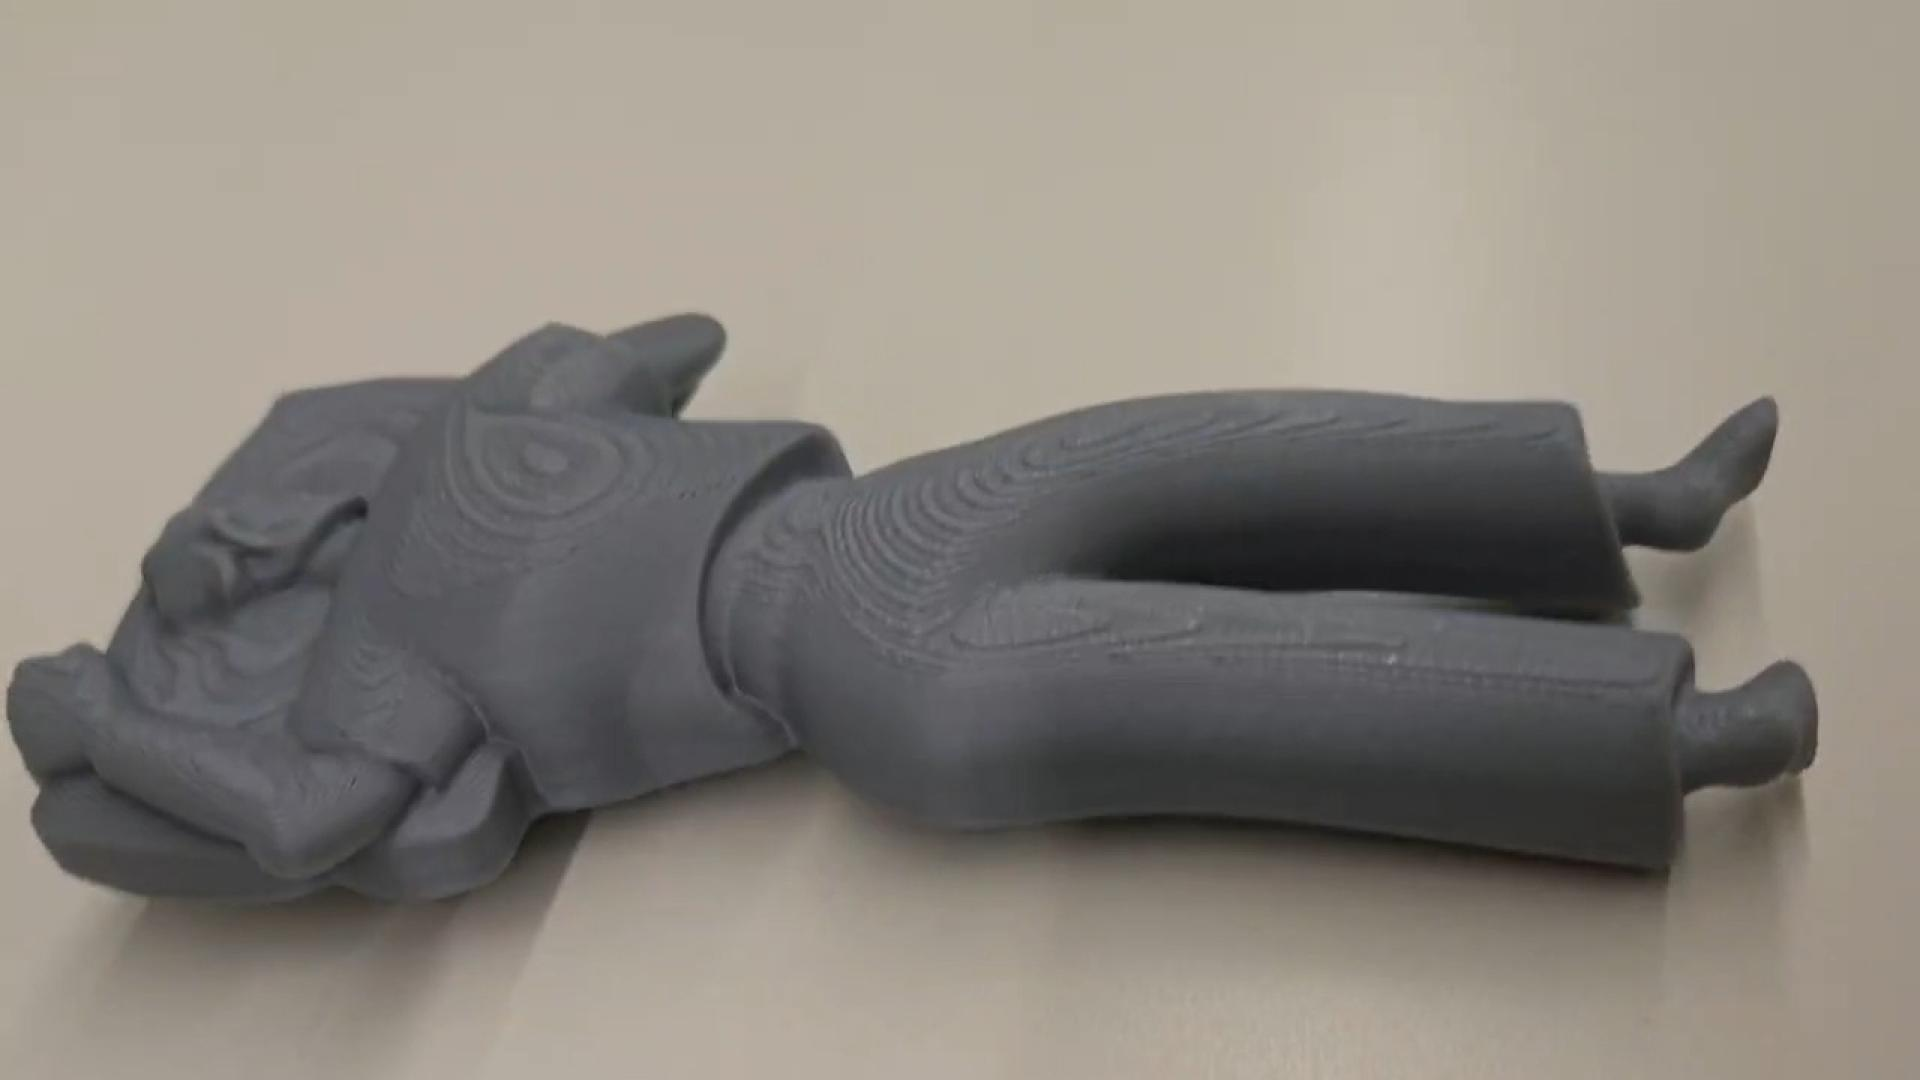Bad-style: (0, 301, 1828, 920), (1189, 1036, 1193, 1047)
